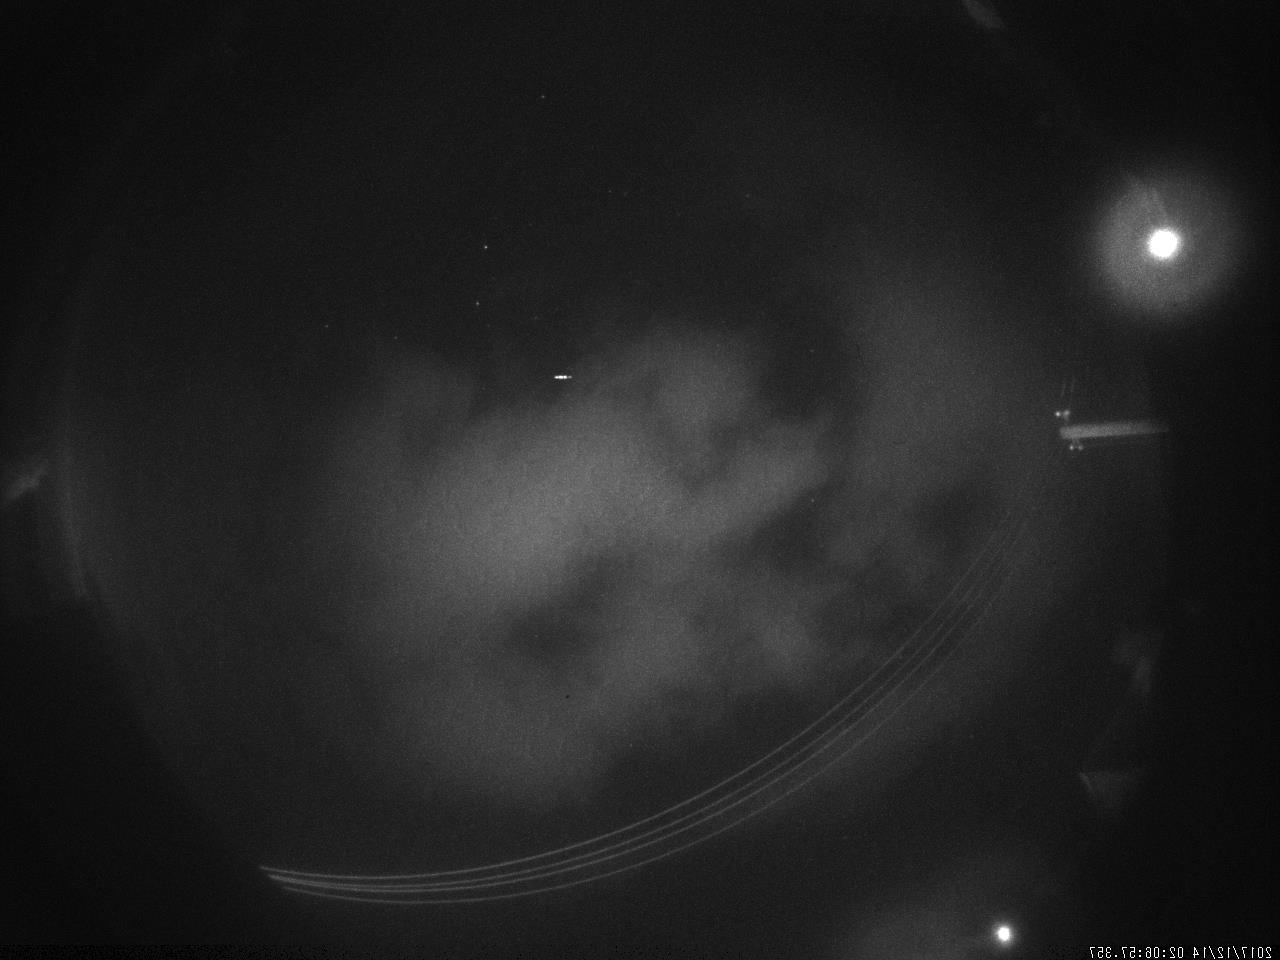meteor: (540, 369, 590, 397)
